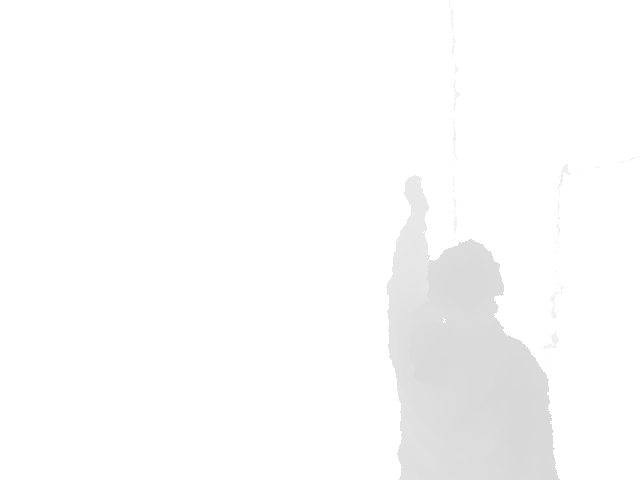hand: (402, 174, 431, 213)
head: (430, 239, 506, 314)
person: (385, 174, 561, 479)
